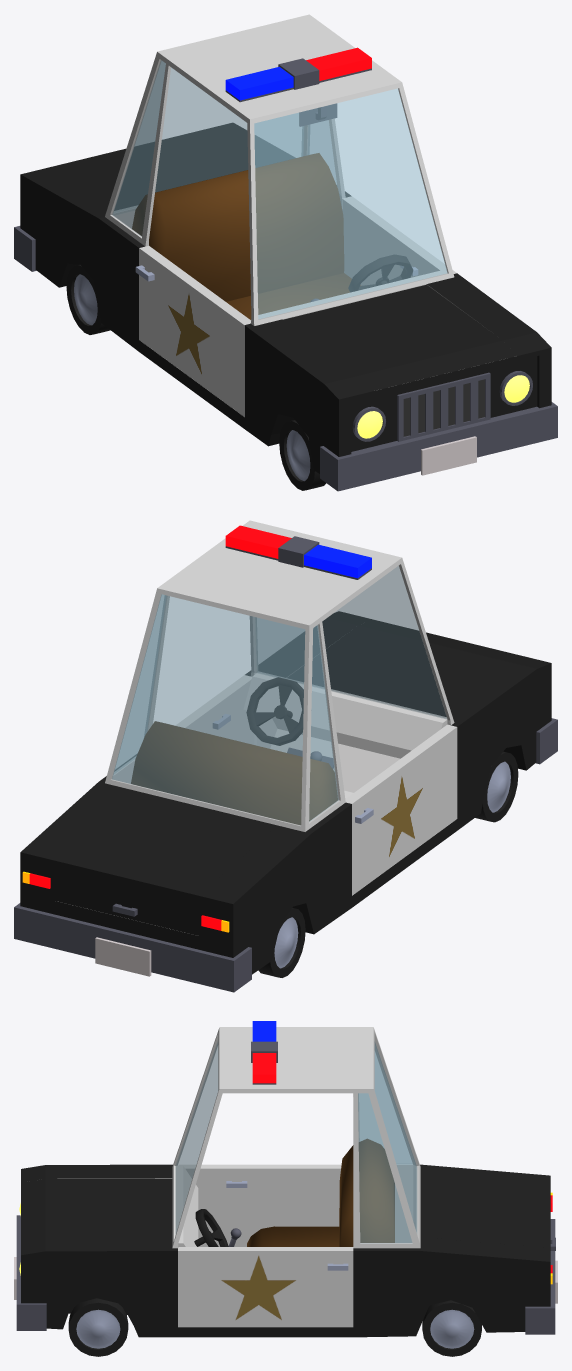
Rendered from police car.fbx.
The picture shows the model from 3 angles, top to bottom: view 1: azimuth 30°, elevation 25°; view 2: azimuth 150°, elevation 25°; view 3: azimuth 270°, elevation 25°; orthographic projection. The views are drawn at different scales.
Visible parts, largest first — view 1: chasse.001, Cube.010, seat_backrest.001, hood.001, Cube.011, door_right.001, bumper_front.003, trunk.001, grill.003, door_left.001, Cube.004, Cube.012 (+10 smaller); view 2: chasse.001, Cube.011, trunk.001, Cube.010, seat_backrest.001, hood.001, door_right.001, bumper_back.001, Cube.004, Cube.012, door_left.001, Cube.013 (+5 smaller); view 3: chasse.001, door_left.001, door_right.001, hood.001, trunk.001, Cube.013, seat_backrest.001, wheel_backleft.016, Cube.010, wheel_backleft.017, Cube.011, Cube.012 (+5 smaller).
Boxes of the visible parts, bbox=[...] form: chasse.001: bbox=[20, 14, 551, 473]; Cube.010: bbox=[254, 88, 447, 319]; seat_backrest.001: bbox=[132, 153, 344, 301]; hood.001: bbox=[283, 284, 516, 390]; Cube.011: bbox=[114, 61, 303, 213]; door_right.001: bbox=[139, 246, 250, 416]; bumper_front.003: bbox=[320, 402, 557, 491]; trunk.001: bbox=[55, 131, 261, 206]; grill.003: bbox=[397, 372, 490, 441]; door_left.001: bbox=[342, 196, 456, 285]; Cube.004: bbox=[225, 47, 371, 102]; Cube.012: bbox=[112, 60, 165, 236]; chasse.001: bbox=[20, 520, 551, 974]; Cube.011: bbox=[112, 594, 305, 825]; trunk.001: bbox=[54, 794, 272, 935]; Cube.010: bbox=[255, 566, 446, 718]; seat_backrest.001: bbox=[131, 721, 337, 825]; hood.001: bbox=[287, 619, 516, 712]; door_right.001: bbox=[345, 724, 457, 895]; bumper_back.001: bbox=[14, 903, 251, 992]; Cube.004: bbox=[225, 525, 371, 579]; Cube.012: bbox=[309, 625, 338, 821]; door_left.001: bbox=[175, 675, 254, 744]; Cube.013: bbox=[114, 595, 165, 773]; chasse.001: bbox=[21, 1027, 550, 1337]; door_left.001: bbox=[178, 1247, 353, 1327]; door_right.001: bbox=[178, 1164, 341, 1244]; hood.001: bbox=[21, 1179, 172, 1241]; trunk.001: bbox=[427, 1179, 550, 1247]; Cube.013: bbox=[358, 1093, 412, 1243]; seat_backrest.001: bbox=[339, 1138, 394, 1246]; wheel_backleft.016: bbox=[68, 1298, 128, 1356]; Cube.010: bbox=[175, 1041, 218, 1234]; wheel_backleft.017: bbox=[422, 1300, 481, 1356]; Cube.011: bbox=[374, 1043, 416, 1232]; Cube.012: bbox=[359, 1053, 412, 1163].
Size of the model in its own units: 225 by 308 by 566.
